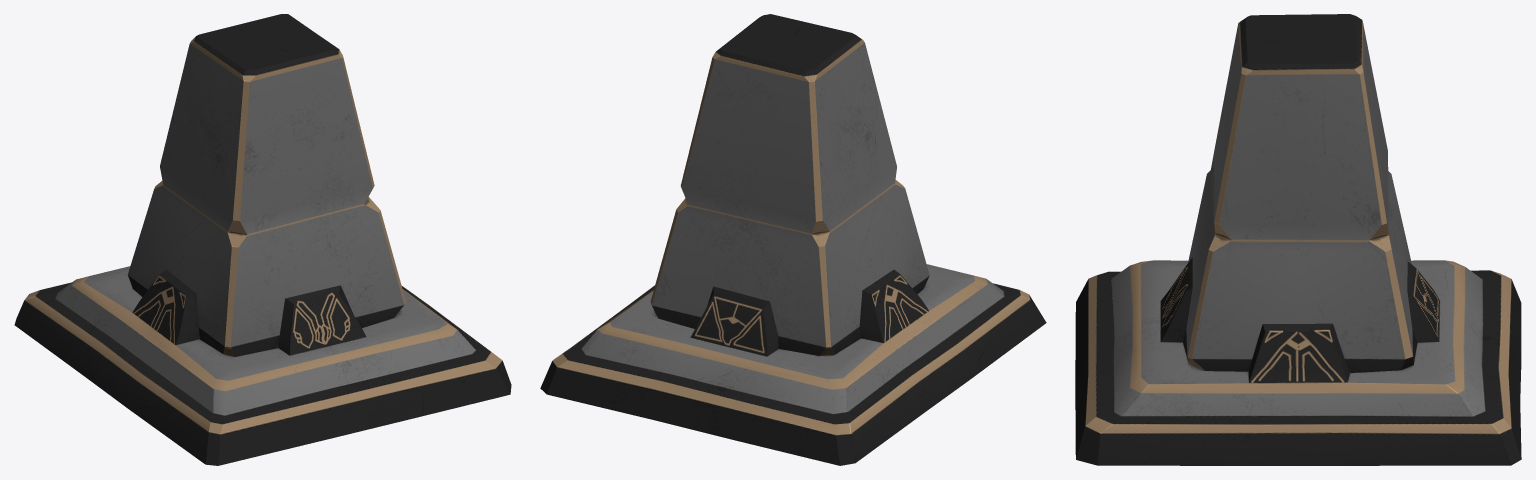
The model's file is fortress_c.glb.
3 views of the same model, side by side, from view 1: azimuth 30°, elevation 25°; view 2: azimuth 150°, elevation 25°; view 3: azimuth 270°, elevation 25° (orthographic). The views are drawn at different scales.
Visible parts, largest first — view 1: FortressC; view 2: FortressC; view 3: FortressC.
Boxes of the visible parts, x1,y1,x2,y2 form: FortressC: (14,14,511,465); FortressC: (540,14,1046,465); FortressC: (1075,14,1521,465).
Size of the model in its own units: 3.92 by 3.74 by 4.39.
Materials: 1 (1 with a texture image).
